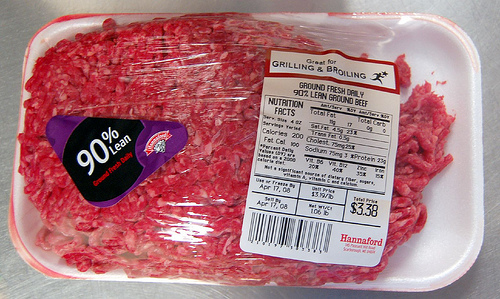ground_beef: (42, 33, 436, 270)
